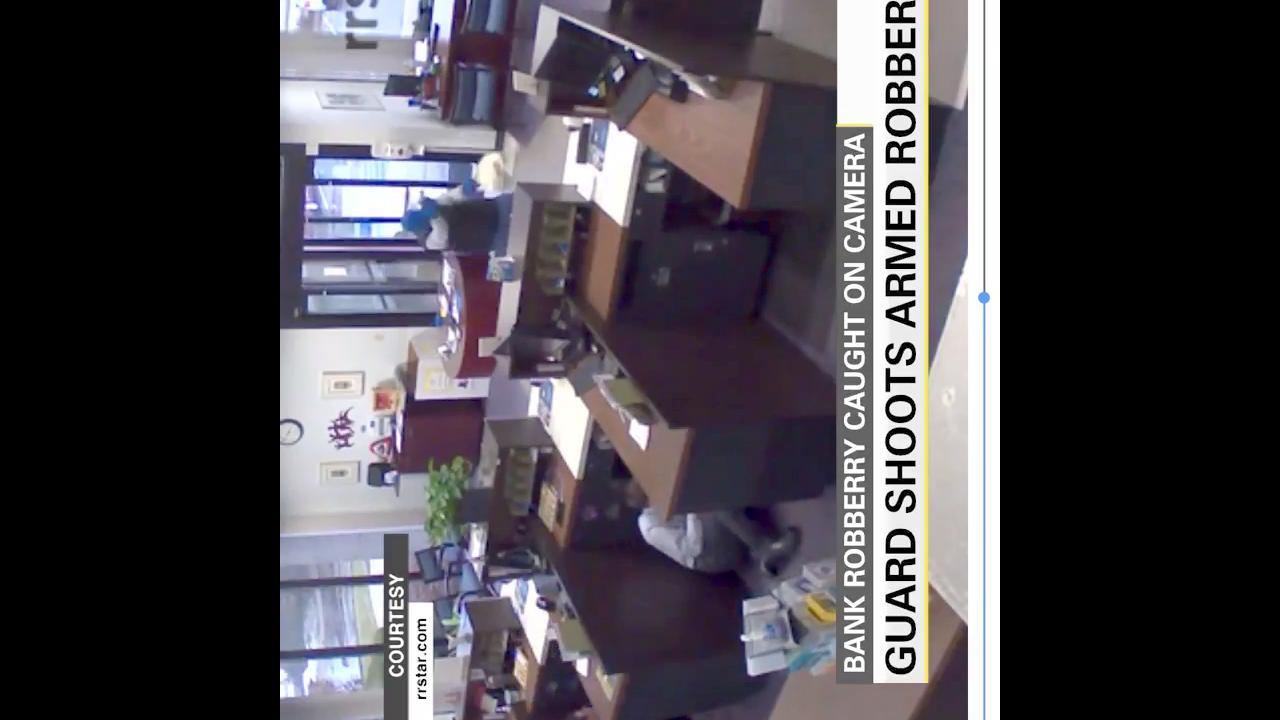gun: (416, 187, 436, 214)
